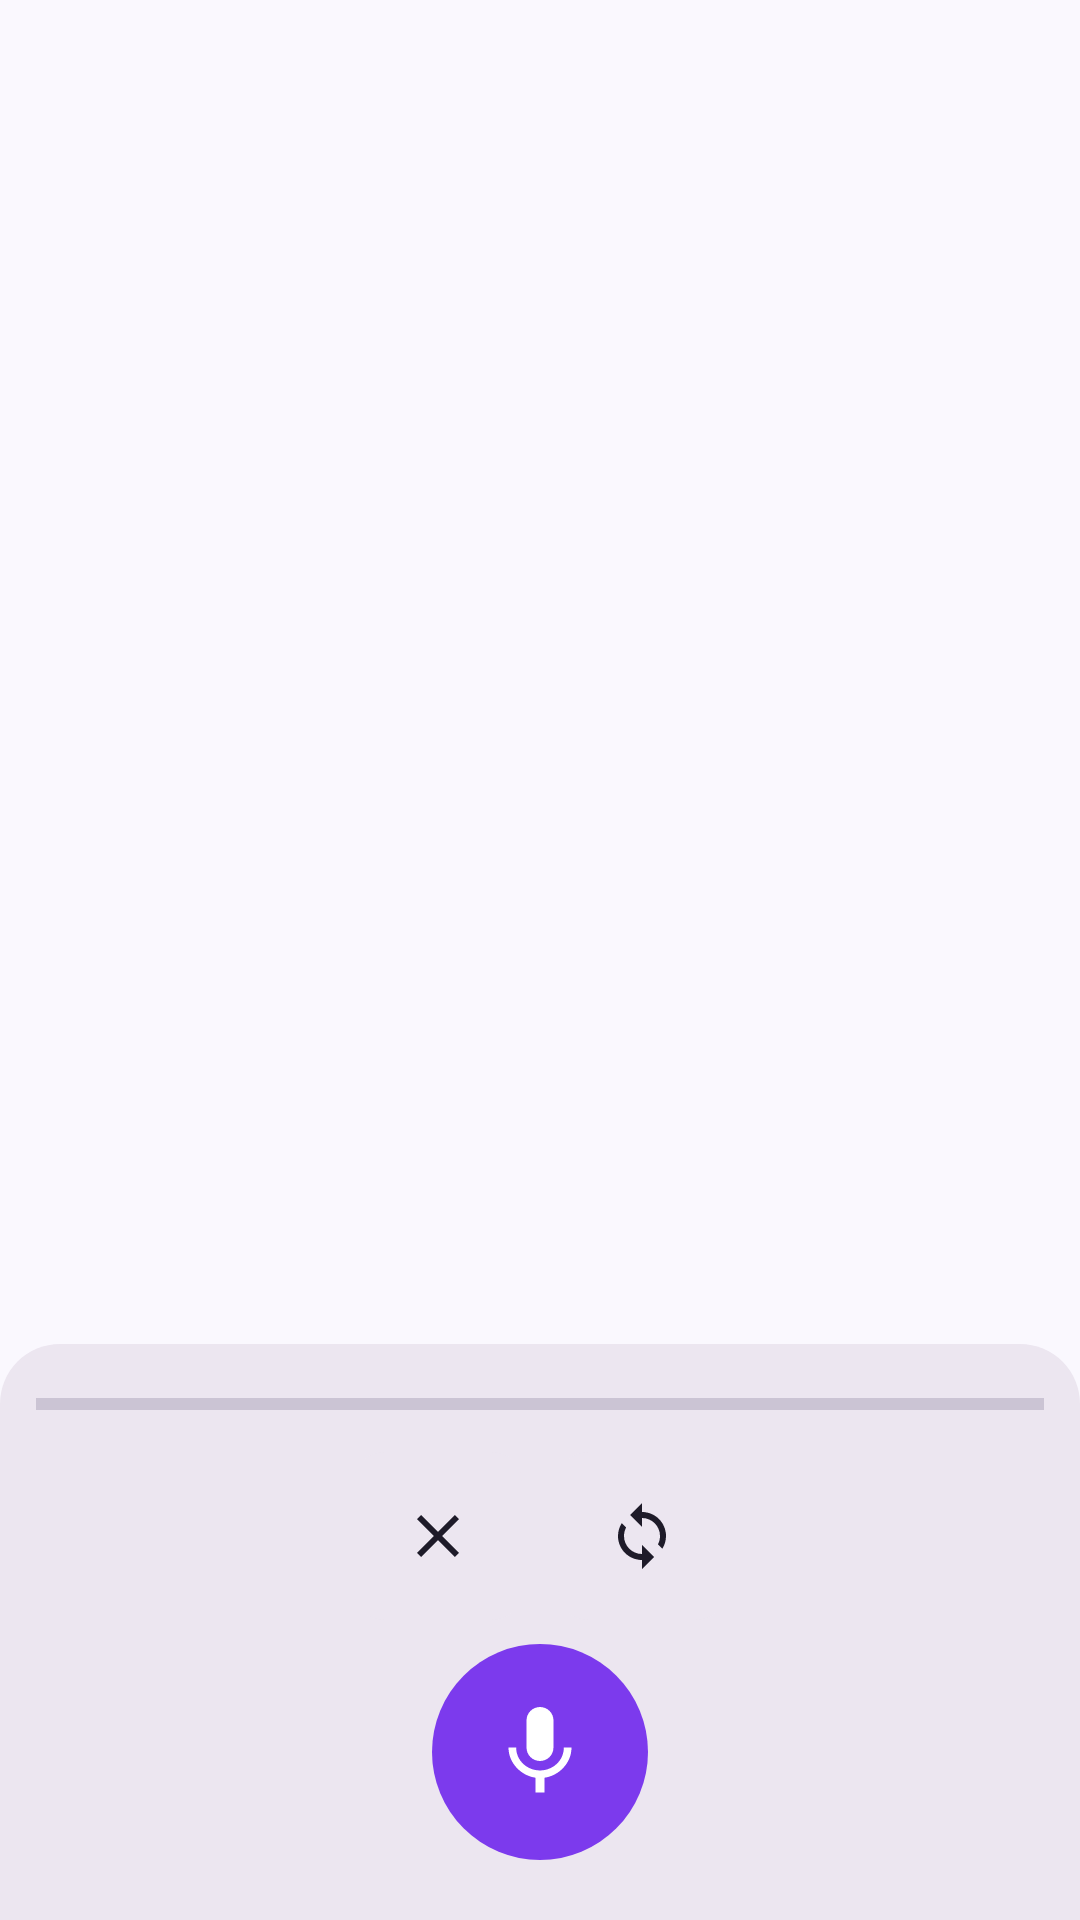

Icons on this 1080px×1920px Android screen, each with its box as (x1, y1, x2, y2):
Automatic mode: (618, 1503, 666, 1569)
Exit: (417, 1515, 459, 1557)
Record: (432, 1644, 648, 1860)
